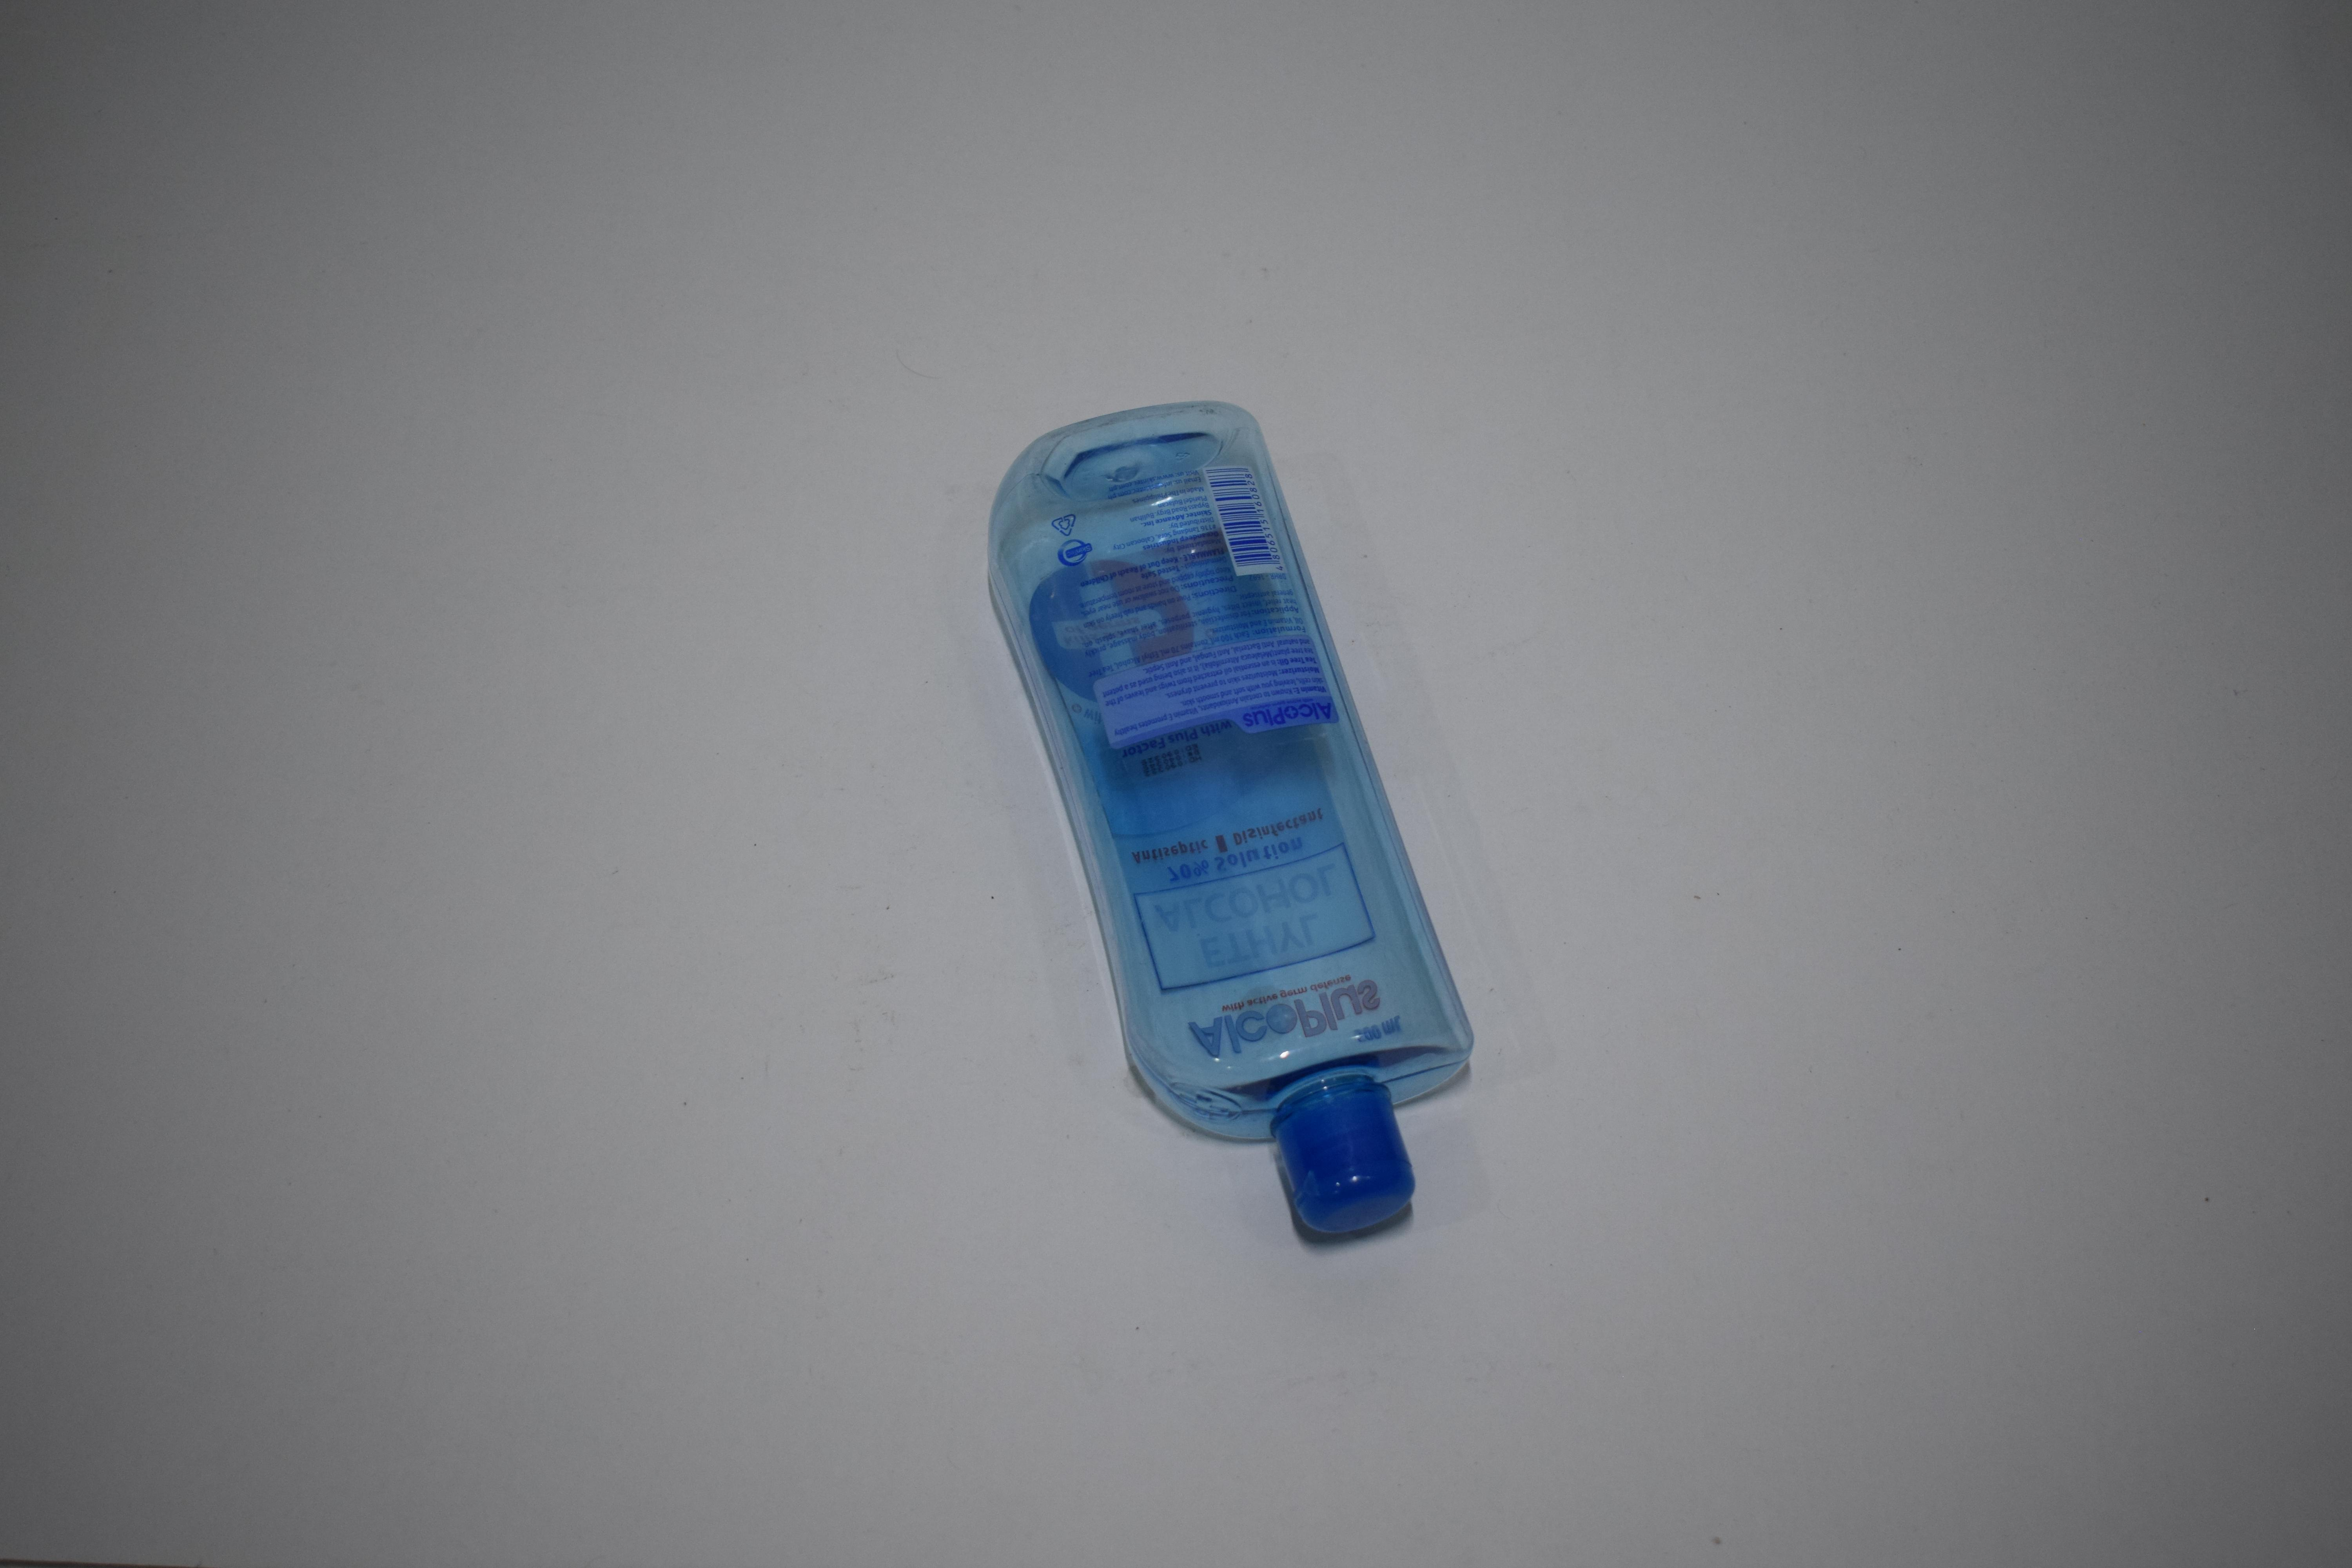bottle: (0, 35, 306, 39)
